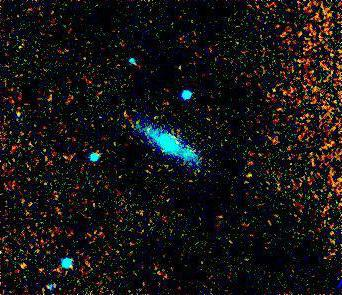star: (8, 249, 38, 279)
